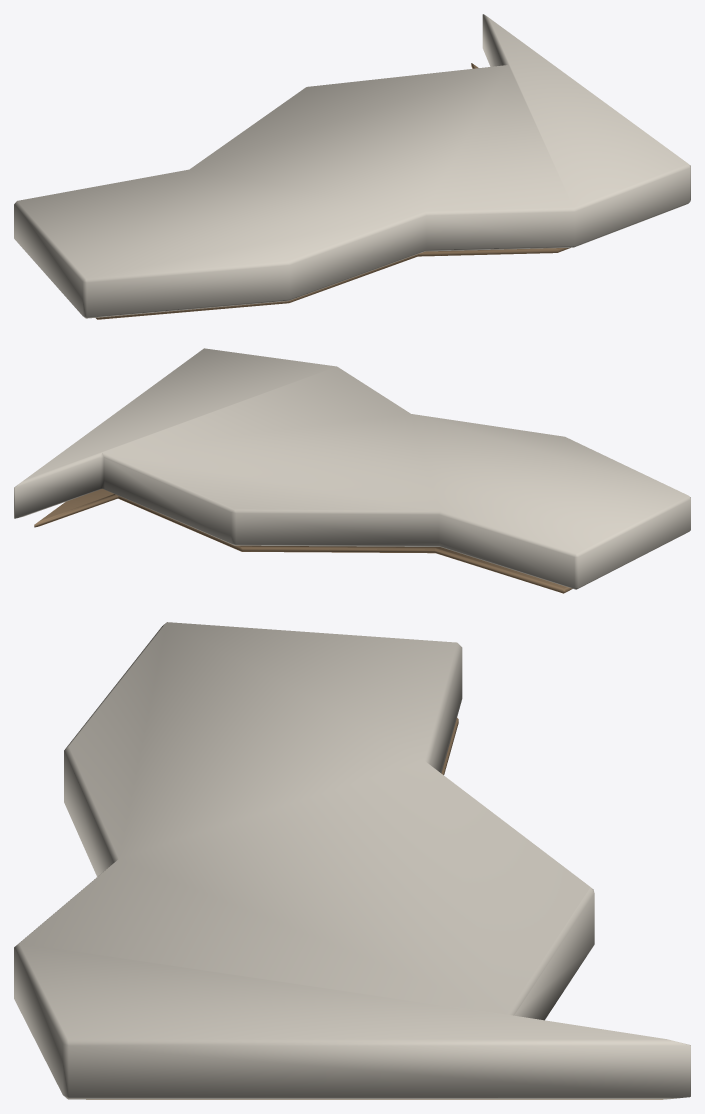
Rendered from drywall_piece.glb.
The picture shows the model from 3 angles, top to bottom: view 1: azimuth 30°, elevation 25°; view 2: azimuth 150°, elevation 25°; view 3: azimuth 270°, elevation 25°; orthographic projection. The views are drawn at different scales.
Visible parts, largest first — view 1: drywall_piece; view 2: drywall_piece; view 3: drywall_piece.
Boxes of the visible parts, x1,y1,x2,y2 form: drywall_piece: (14,14,690,319); drywall_piece: (14,348,690,593); drywall_piece: (14,622,690,1099).
Size of the model in its own units: 0.2998 by 0.024 by 0.2036.
